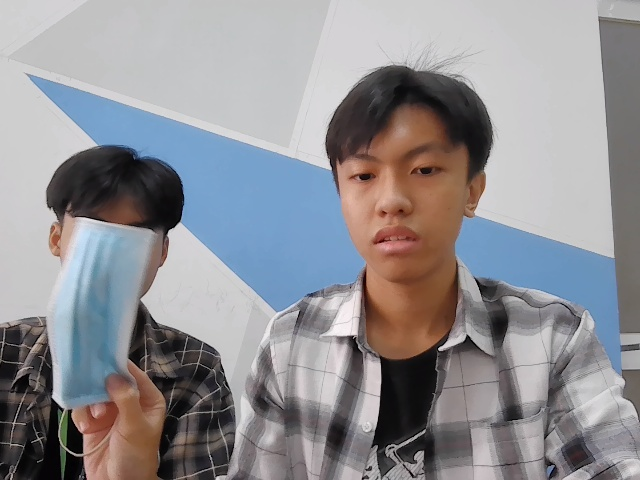human: (337, 68, 492, 286)
mask: (49, 215, 143, 414)
